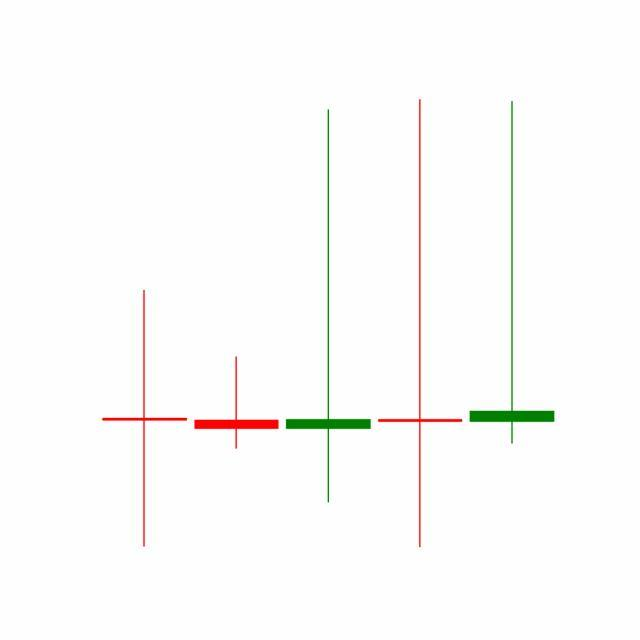Spinning Top: (466, 98, 559, 448)
